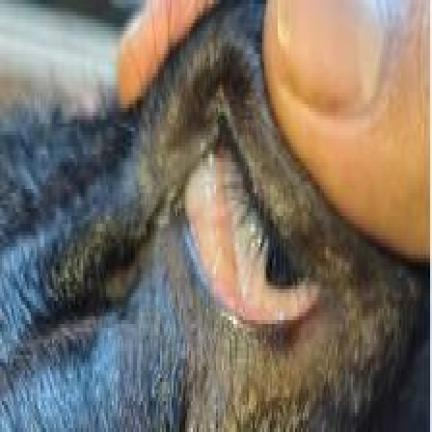goat-eye-anemia-22222222: (185, 150, 316, 324)
